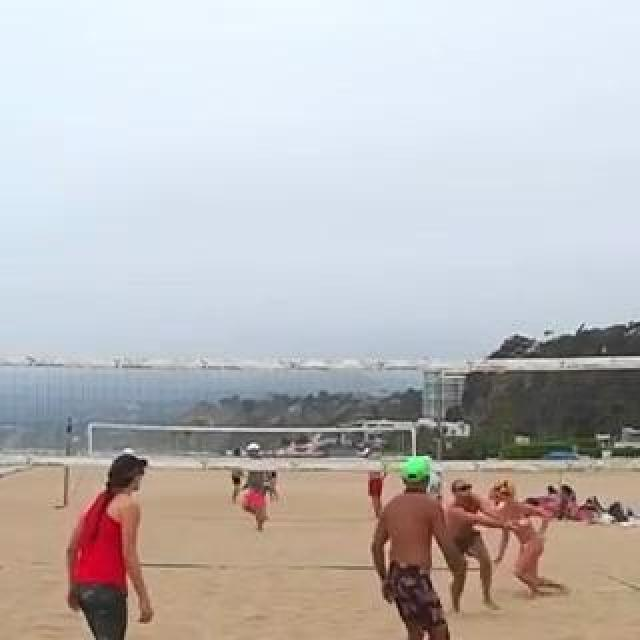volleyball: (493, 480, 513, 502)
